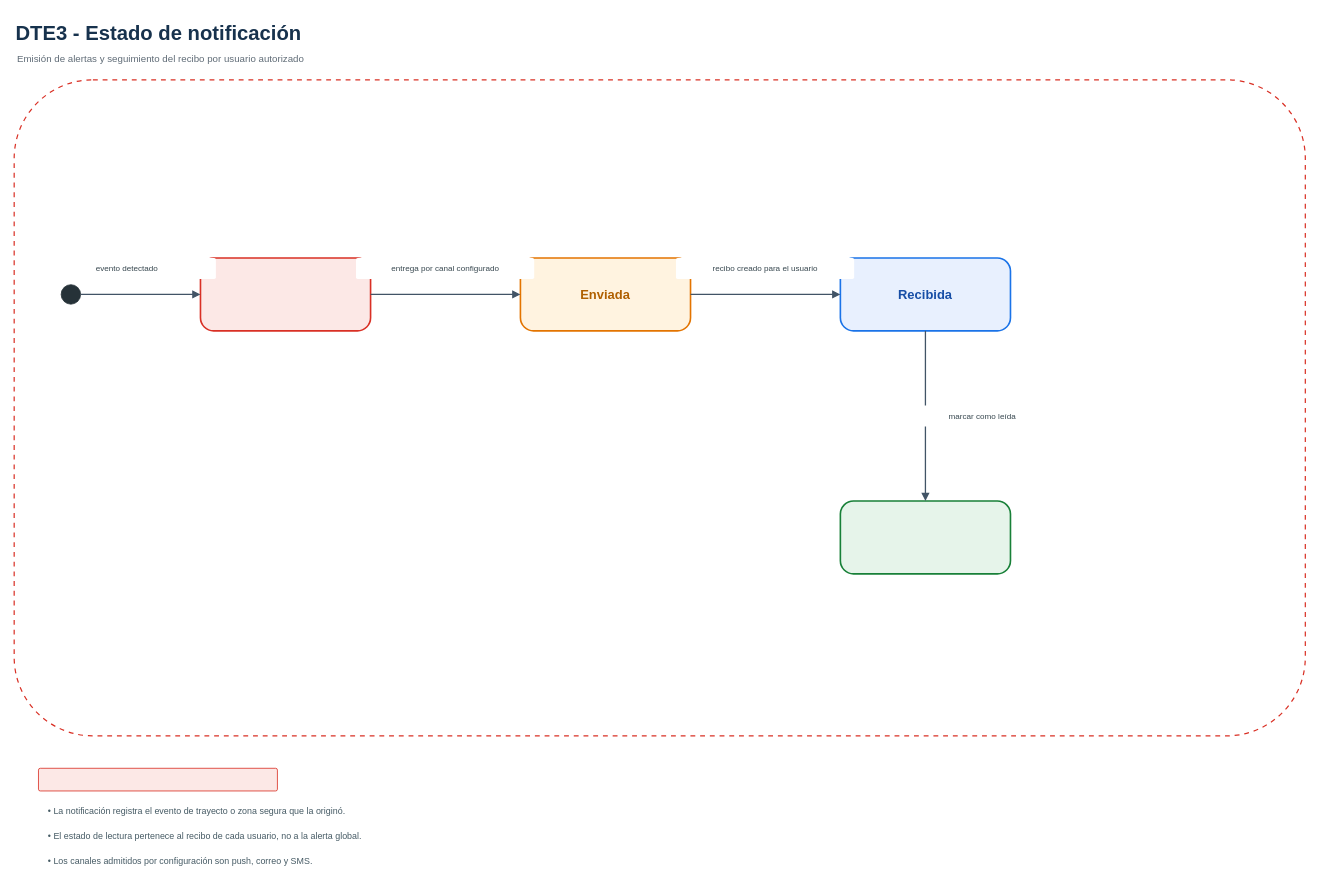
Image size: 1320x885. Some labels were removed from this diagram. Each missing label, with the centre of its shape:
"Generada" belongs at point (285, 294).
"Leída" belongs at point (925, 537).
"Reglas y evidencia del modelo" belongs at point (157, 779).
